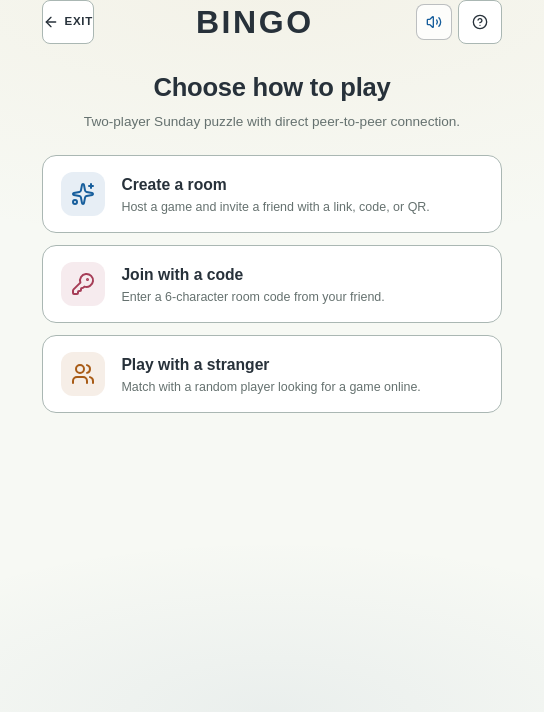
it: BingoOnlineGame entry flow and state machine › Join with a code navigates to code input, joins guest lobby on valid code, and supports Try another code
Open Join with code screen
Click the button "Join with a code": x=83, y=284 top-left (42, 245), bottom-right (502, 323)
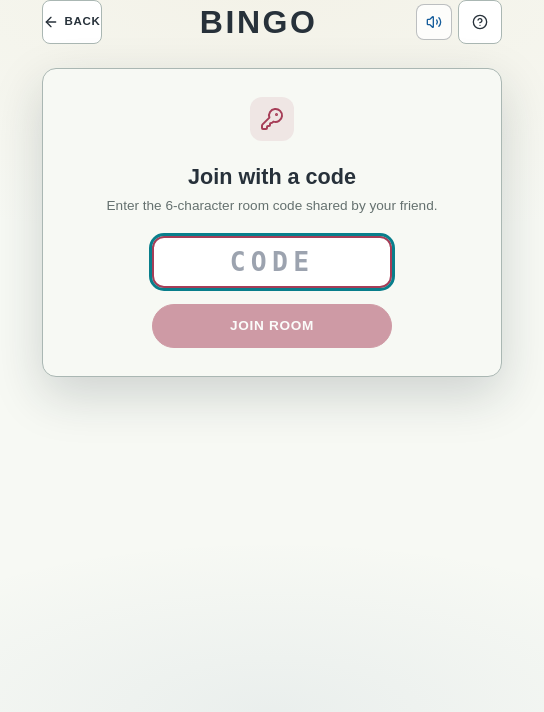
Expected: the heading "Join with a code" is shown, top-left (188, 164), bottom-right (356, 189)
Invalid code
In the field with placeholder "CODE": x=272, y=262 top-left (152, 236), bottom-right (392, 288), type "XYZ"
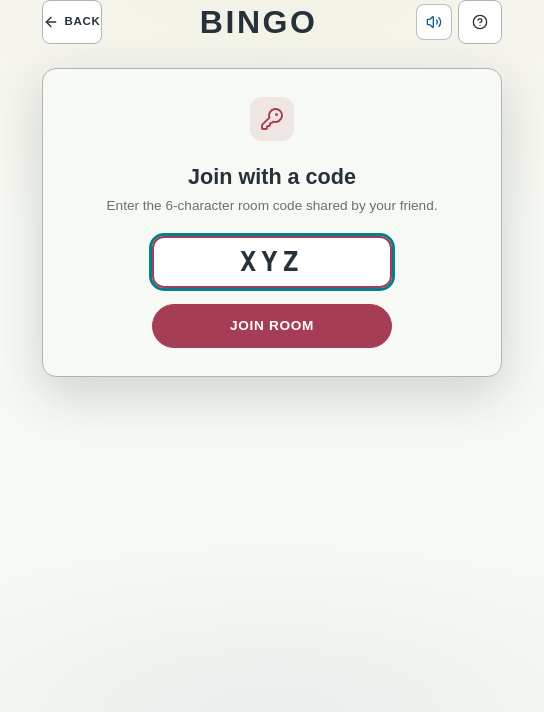
Click the button "Join Room": x=272, y=326 top-left (152, 304), bottom-right (392, 348)
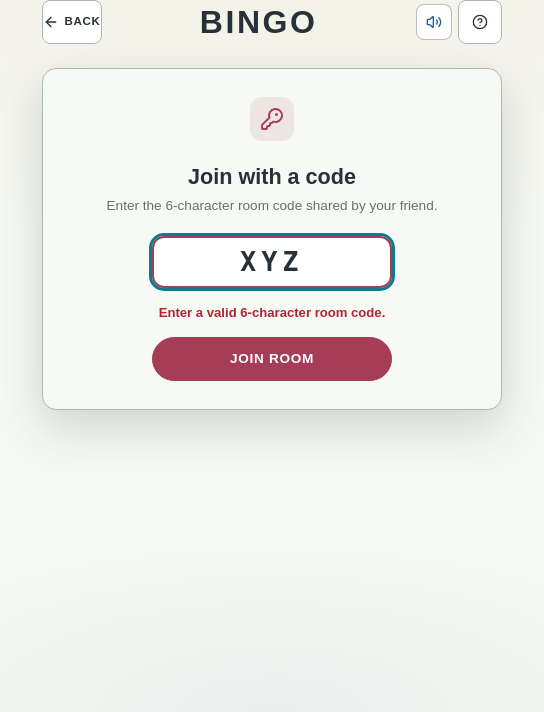
Result: the message shows "Enter a valid 6-character room code" at top-left (159, 305), bottom-right (385, 320)
Valid code
Replace the text in the field with placeholder "CODE" with "K7M4QX": x=272, y=262 top-left (152, 236), bottom-right (392, 288)
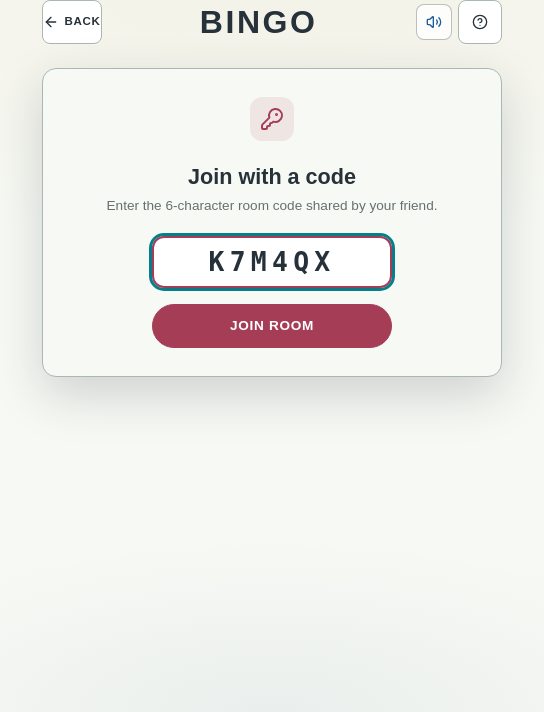
Click the button "Join Room": x=272, y=326 top-left (152, 304), bottom-right (392, 348)
(page scrolled)
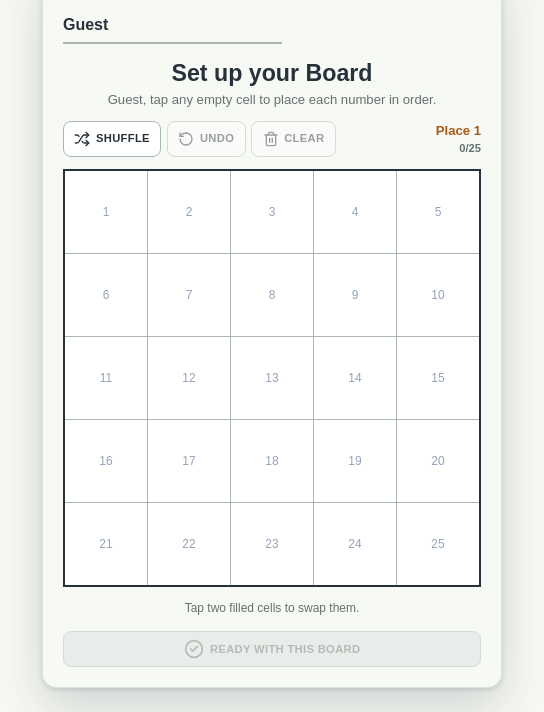
Result: the table named "BINGO Board setup" is shown at top-left (65, 171), bottom-right (479, 585)
